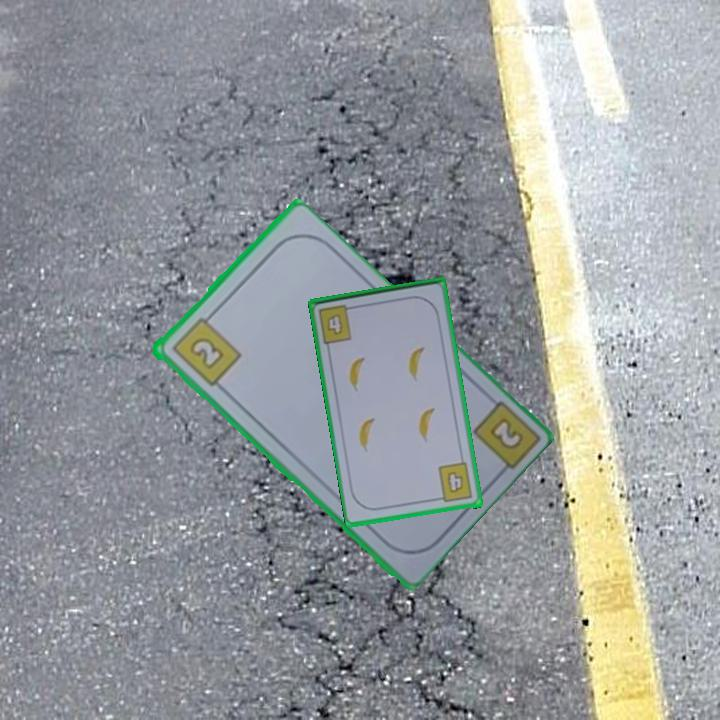2b: (167, 309, 244, 389), (489, 417, 523, 450)
4b: (433, 460, 476, 506), (324, 310, 346, 339)
